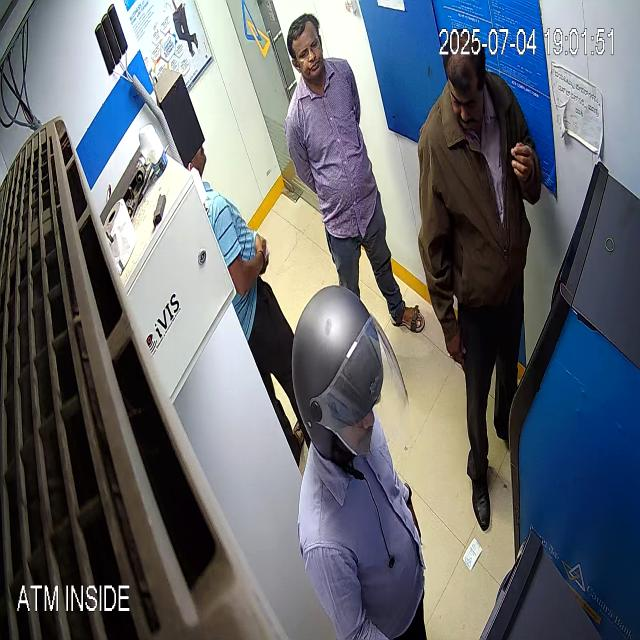helmet: (292, 284, 410, 469)
no_helmet: (443, 27, 485, 134), (288, 13, 325, 94)
